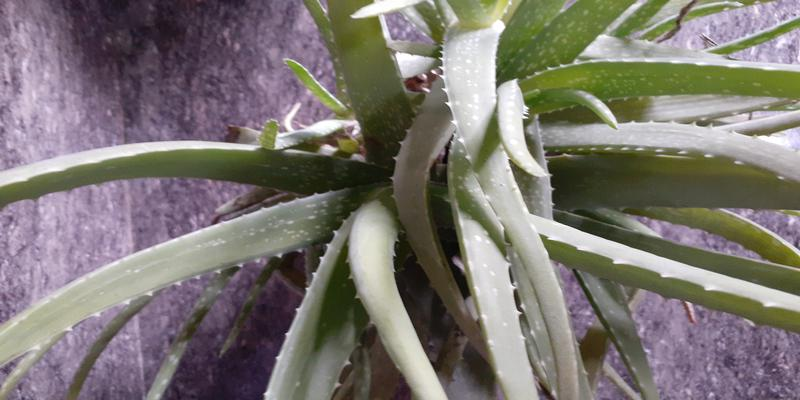Aloevera: (204, 41, 678, 367)
